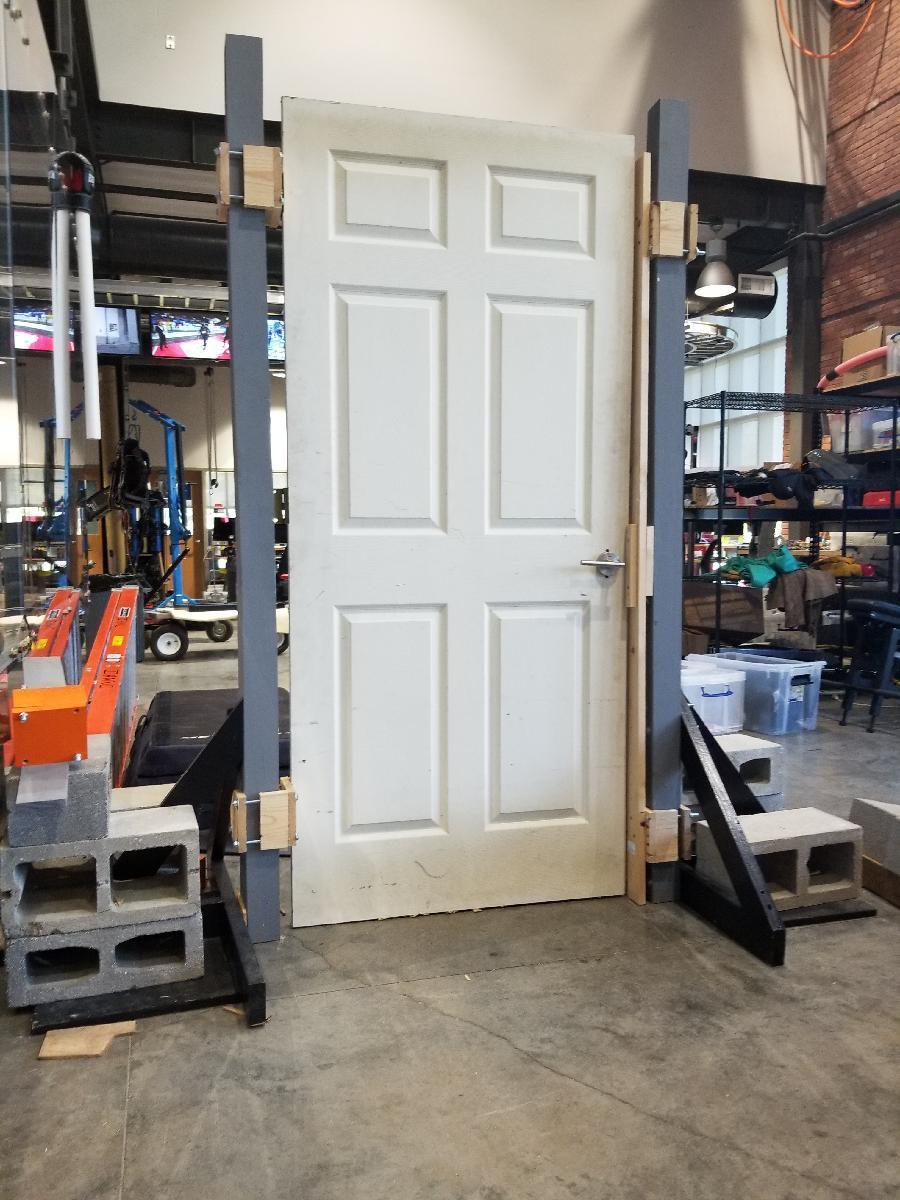door: (291, 98, 629, 903)
handle: (578, 546, 628, 580)
